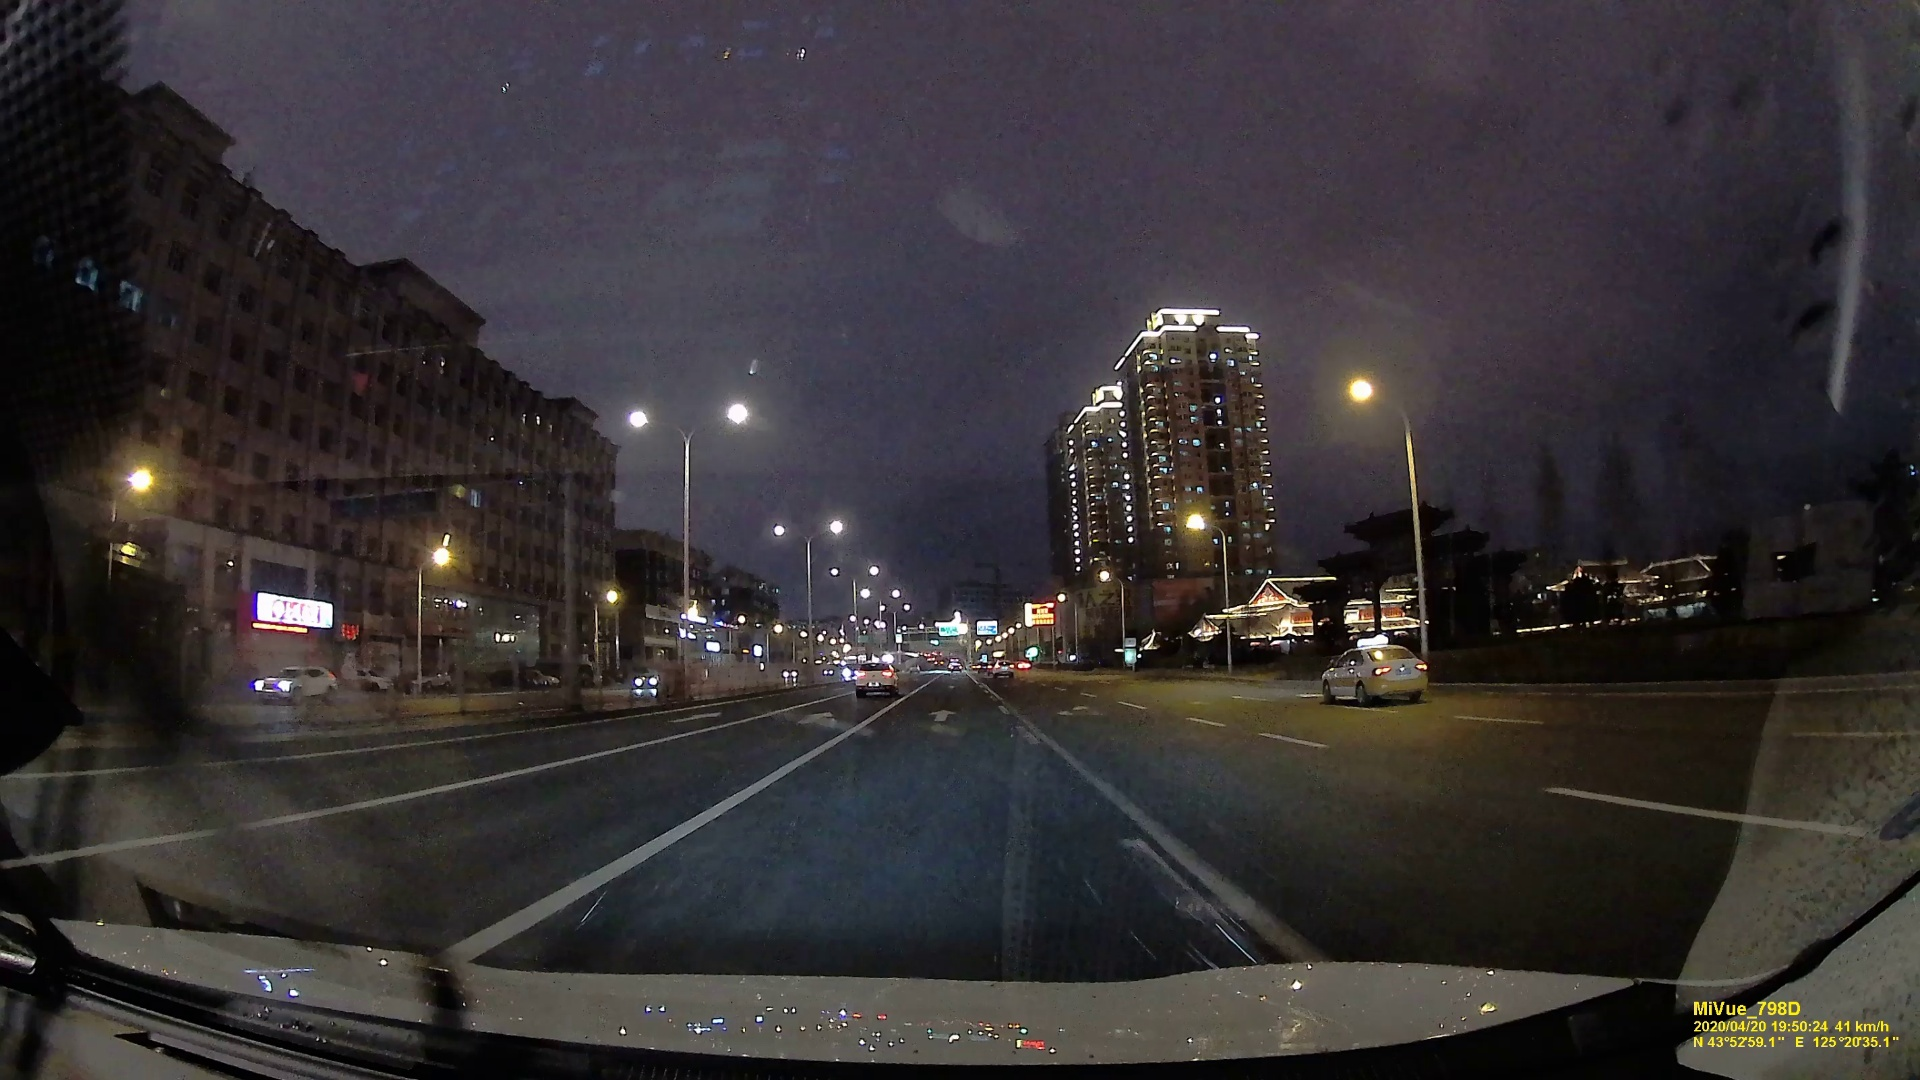traffic_sign: (978, 620, 997, 634)
vehicle: (1323, 641, 1433, 705), (253, 659, 342, 705), (852, 663, 897, 694), (993, 659, 1015, 678)
